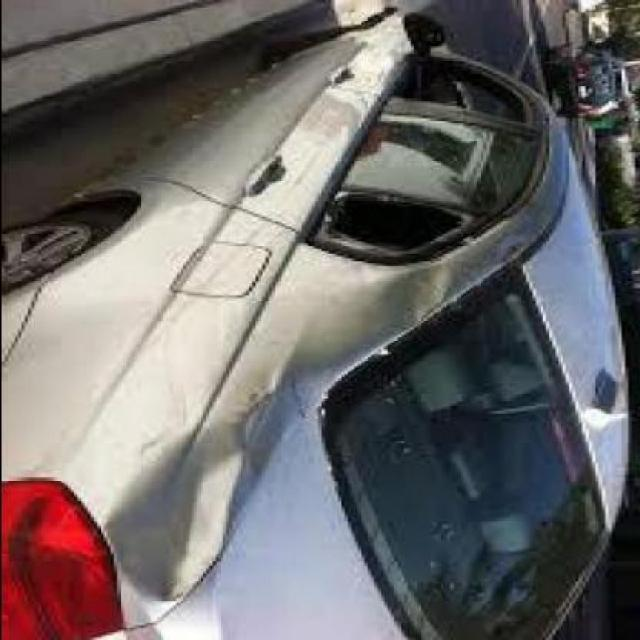damage: (89, 358, 296, 619), (317, 187, 472, 255), (369, 255, 459, 322)
